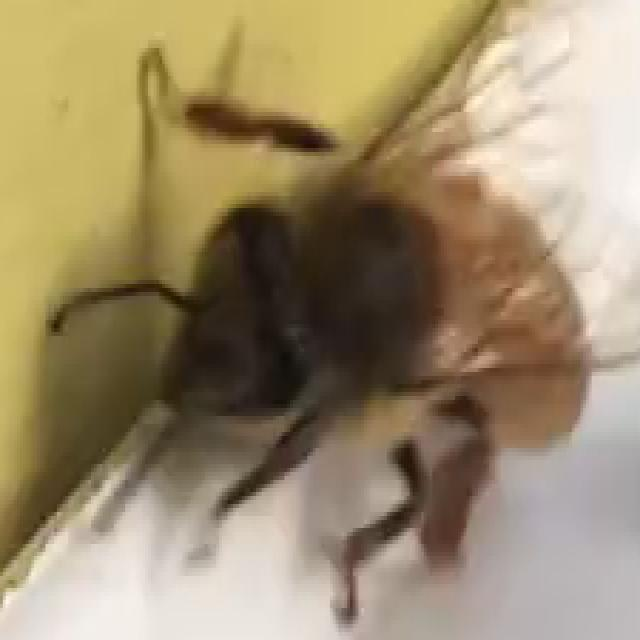honeybee: (102, 134, 598, 563)
